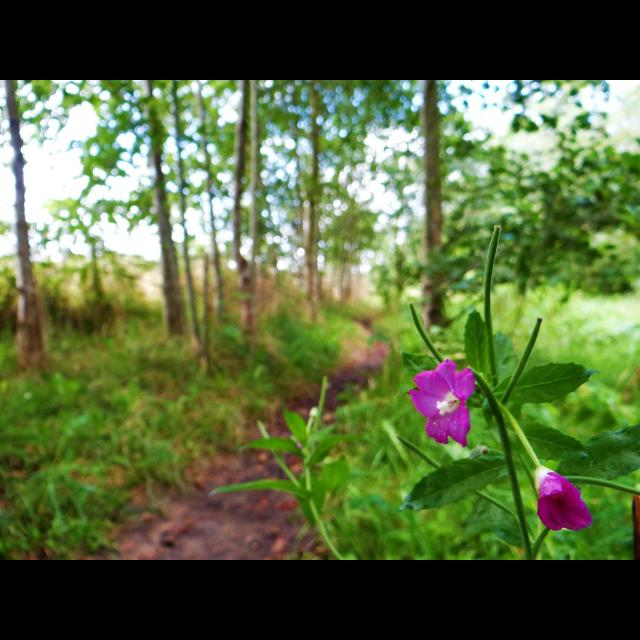Flower: (413, 362, 483, 454), (530, 462, 596, 534)
